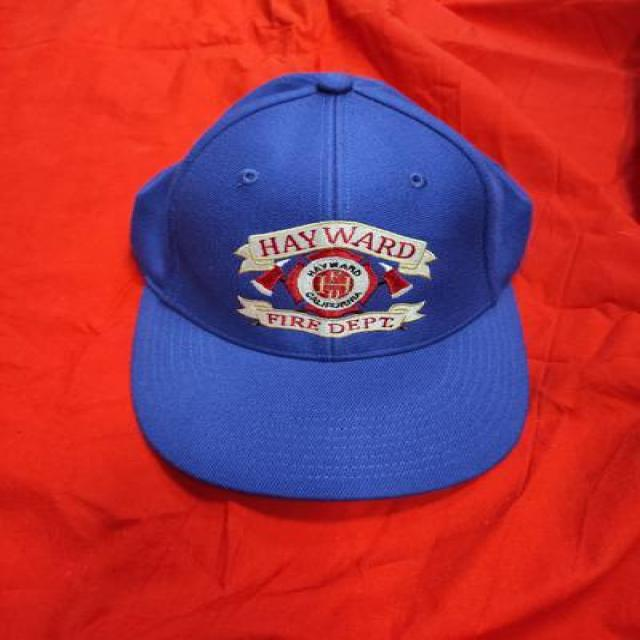Clothes -Biodegradable-: (129, 73, 535, 498)
